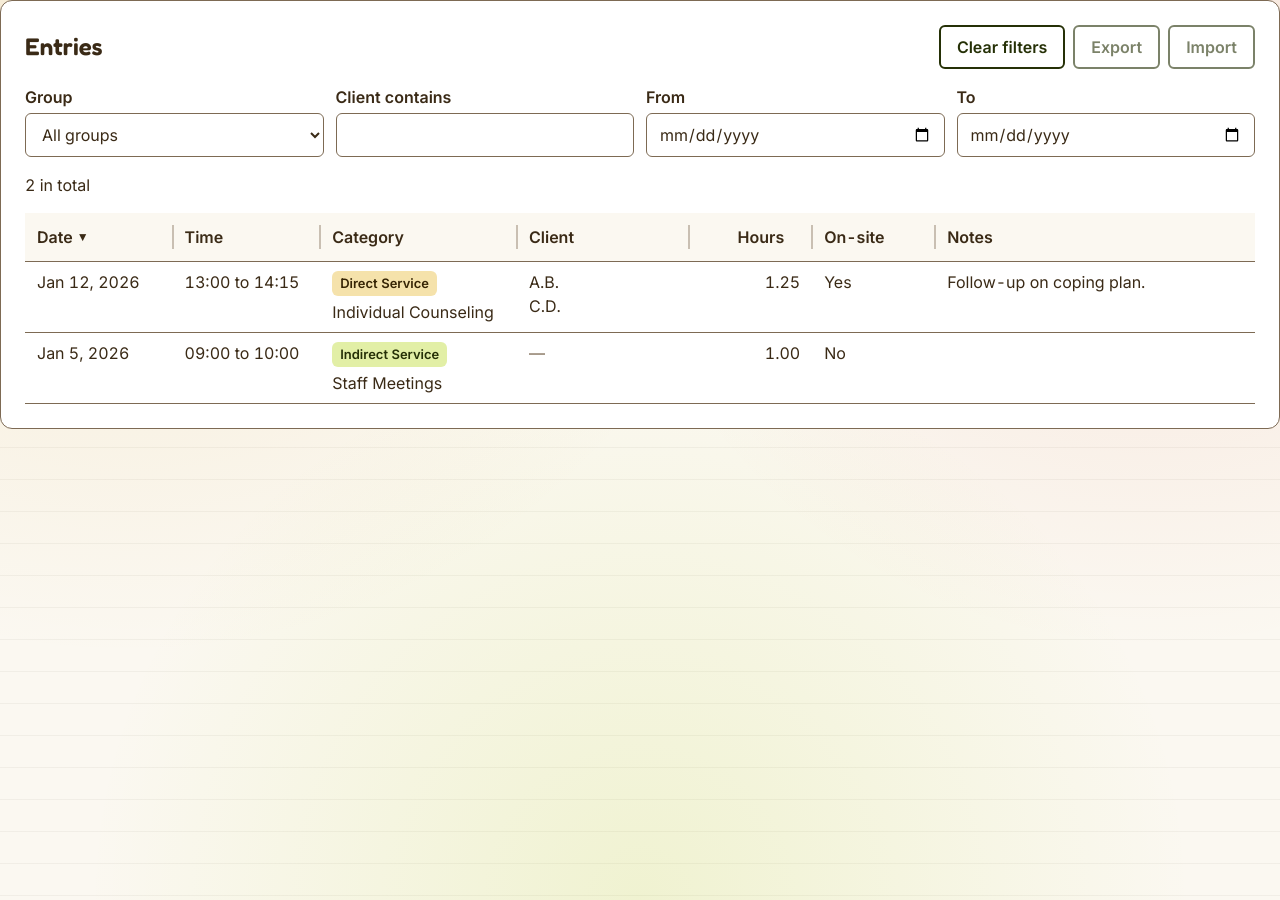
it: Clear filters › also clears client text that has not been applied yet
This screenshot has width=1280, height=900.
Expected: the table is shown, [25,213,1255,404]
Type "a.b" into the search field labelled "Client contains" at x=485, y=135, box [336,113,634,157]
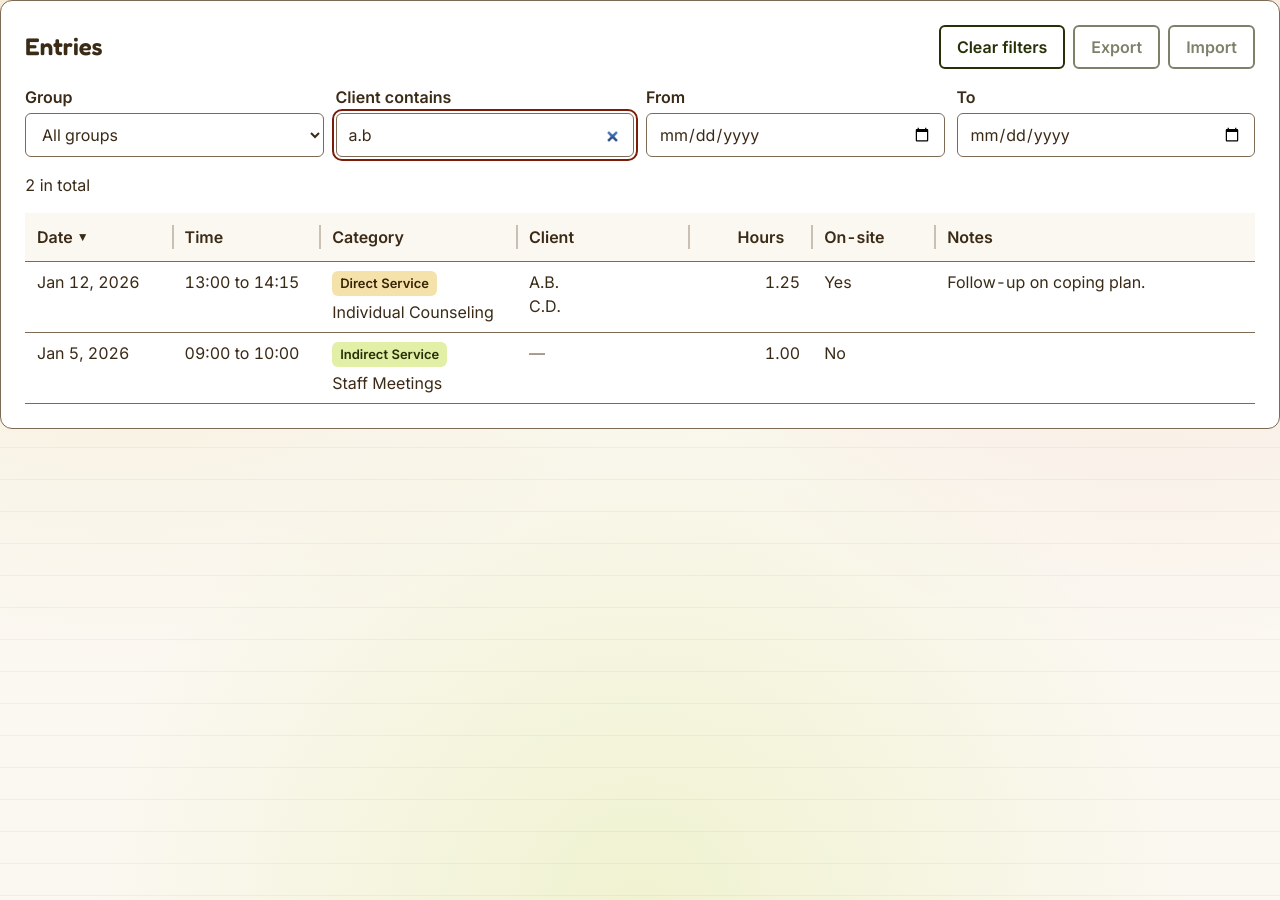
Click the button "Clear filters" at x=1002, y=47, box [939,25,1065,69]
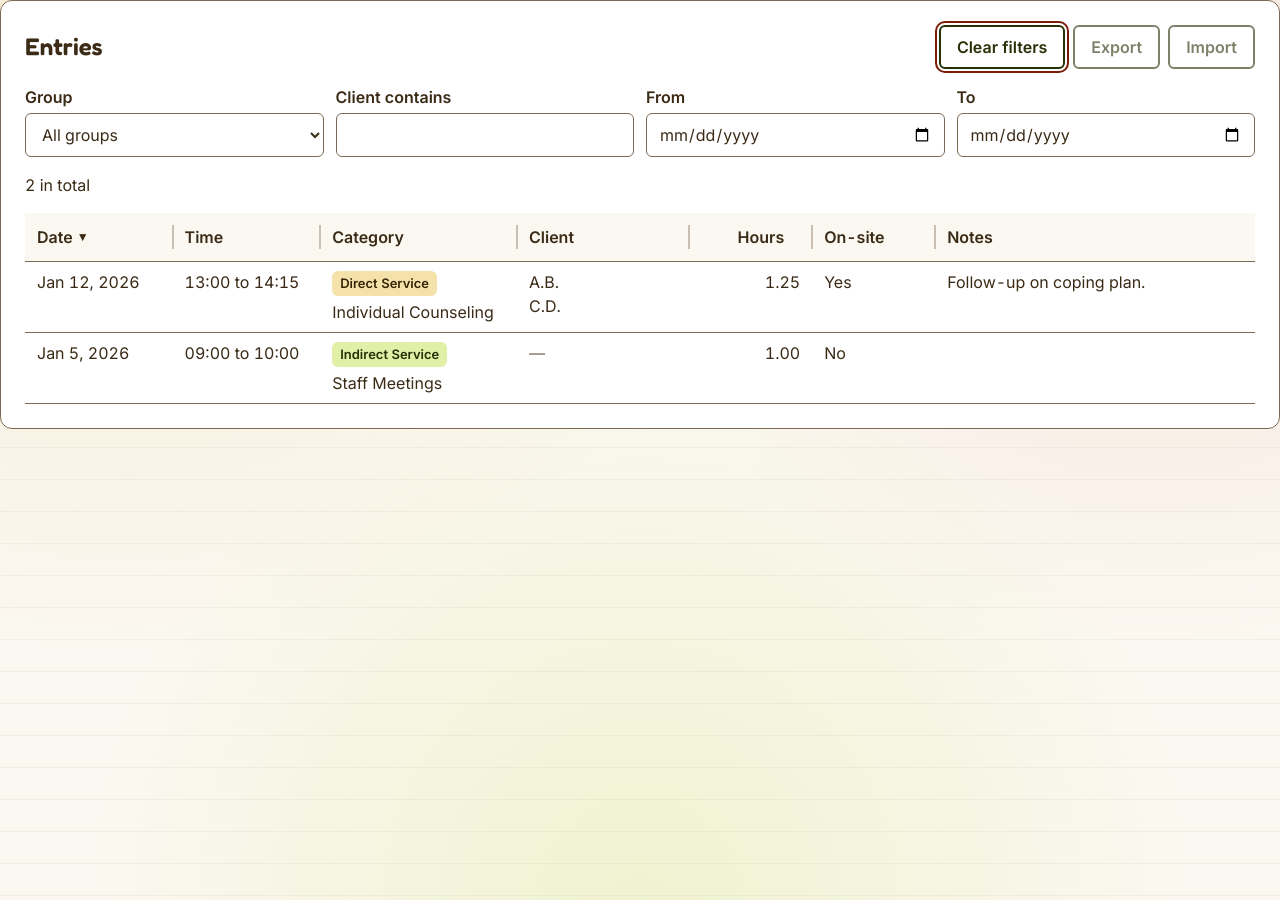
Expected: the search field labelled "Client contains" is empty, [336,113,634,157]
